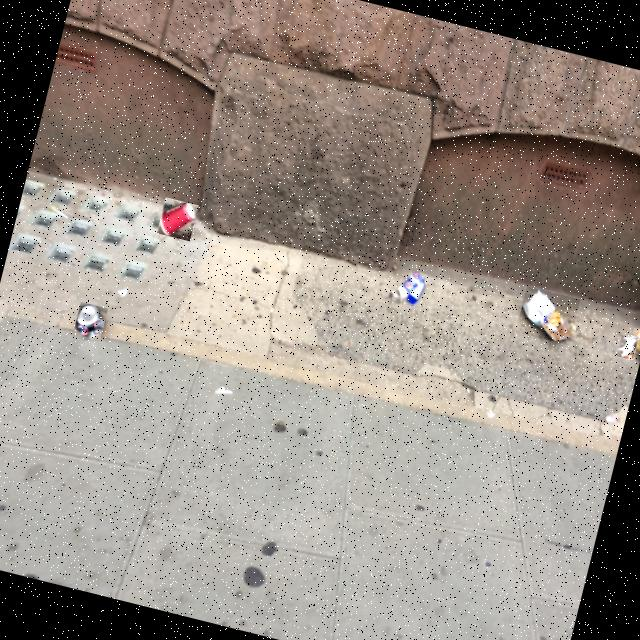Crisp packet: (523, 289, 571, 342)
Drink can: (75, 305, 103, 338)
Paper cup: (161, 204, 195, 236)
Unlabeled litter: (397, 272, 426, 305), (618, 338, 636, 358), (631, 329, 640, 354)
